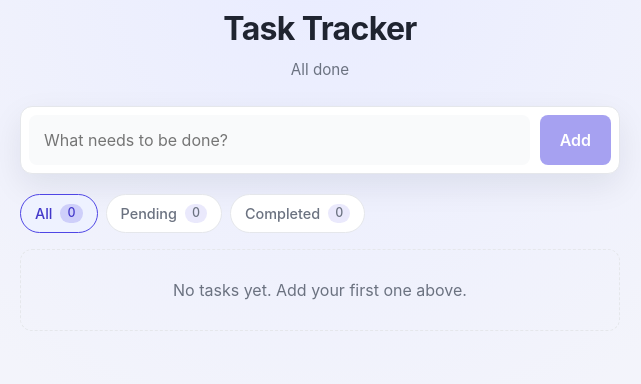
Scenario: Task Tracker › marks a task as completed and back to pending
Step 1. Type "Walk the dog" into the field named "New task" → (279, 140), box left=29, top=115, right=530, bottom=165
Then press Enter
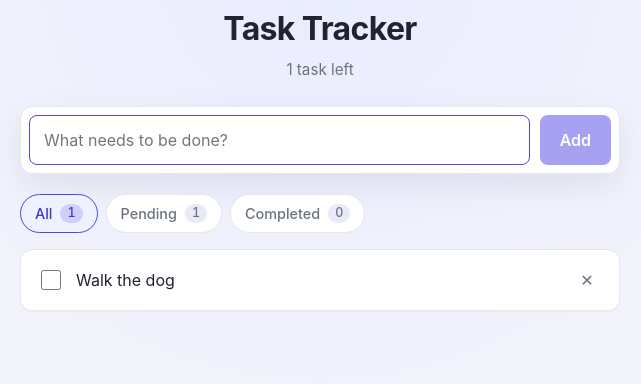
Step 2. Click the checkbox named "Mark \"Walk the dog\" as completed" → (51, 280), box left=41, top=270, right=61, bottom=290
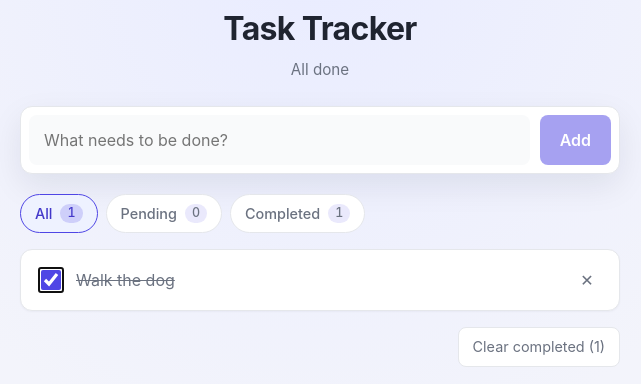
Expected: the checkbox named "Mark \"Walk the dog\" as completed" is checked
Expected: the text "All done" is shown, left=291, top=60, right=349, bottom=79
Step 3. Click the checkbox named "Mark \"Walk the dog\" as pending" → (51, 280), box left=41, top=270, right=61, bottom=290
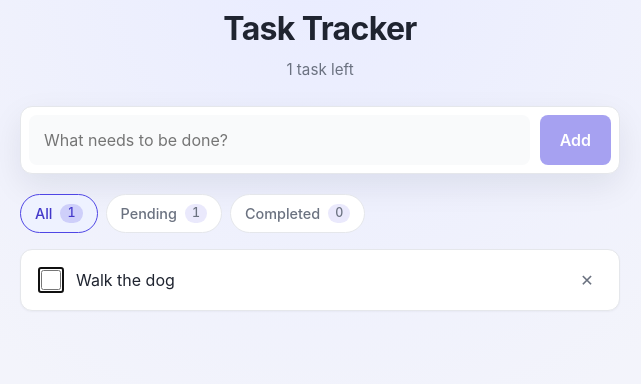
Expected: the text "1 task left" is shown, left=286, top=60, right=354, bottom=79
